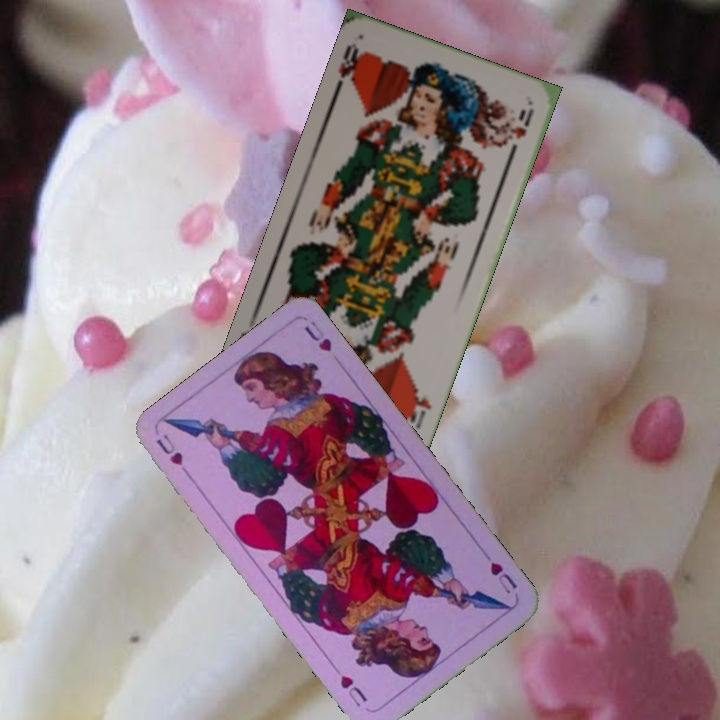HO: (330, 38, 368, 94), (401, 385, 435, 432)
HU: (152, 430, 195, 482), (486, 558, 520, 597)
